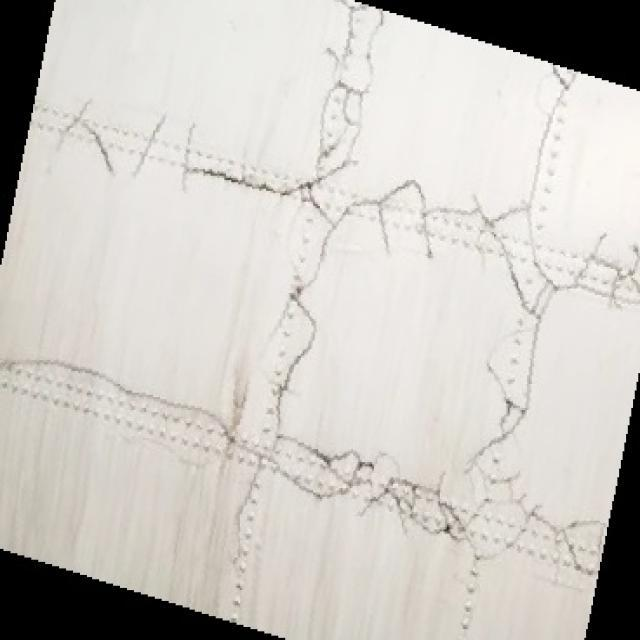crack: (3, 351, 612, 581), (58, 97, 640, 310), (211, 5, 394, 585), (457, 60, 586, 542)
